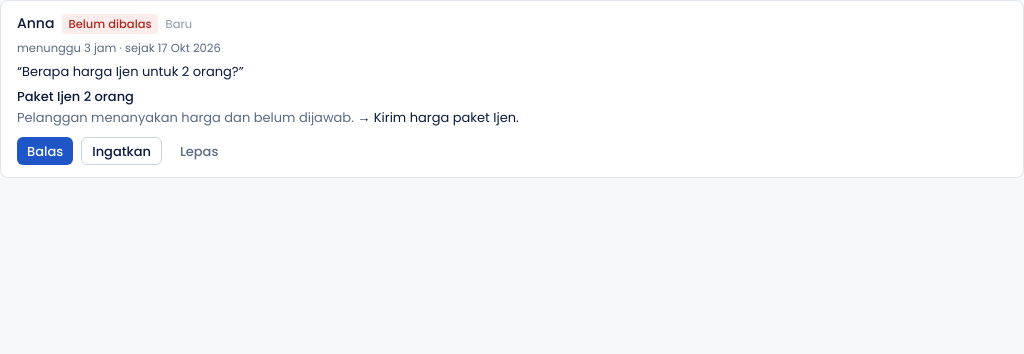
SummaryQueue › kegagalan tampil di kartu dan tidak memuat ulang daftar
The image size is (1024, 354).
Step 1. Click the button "Lepas" → (199, 151), box [170,137,228,165]
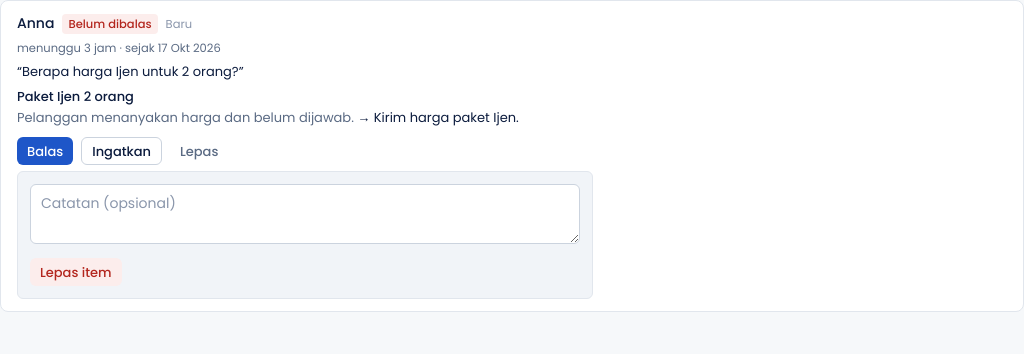
Step 2. Click the button "Lepas item" → (76, 272), box [30,258,122,286]
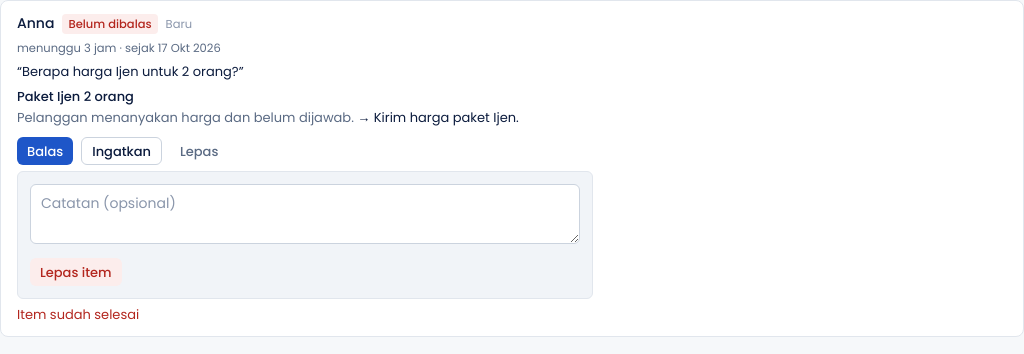
Now the message reads "Item sudah selesai", box [17,305,139,324]
